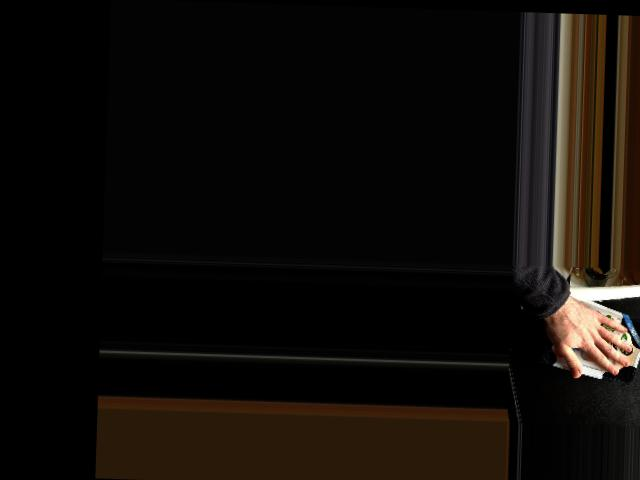cheese: (540, 289, 640, 387)
